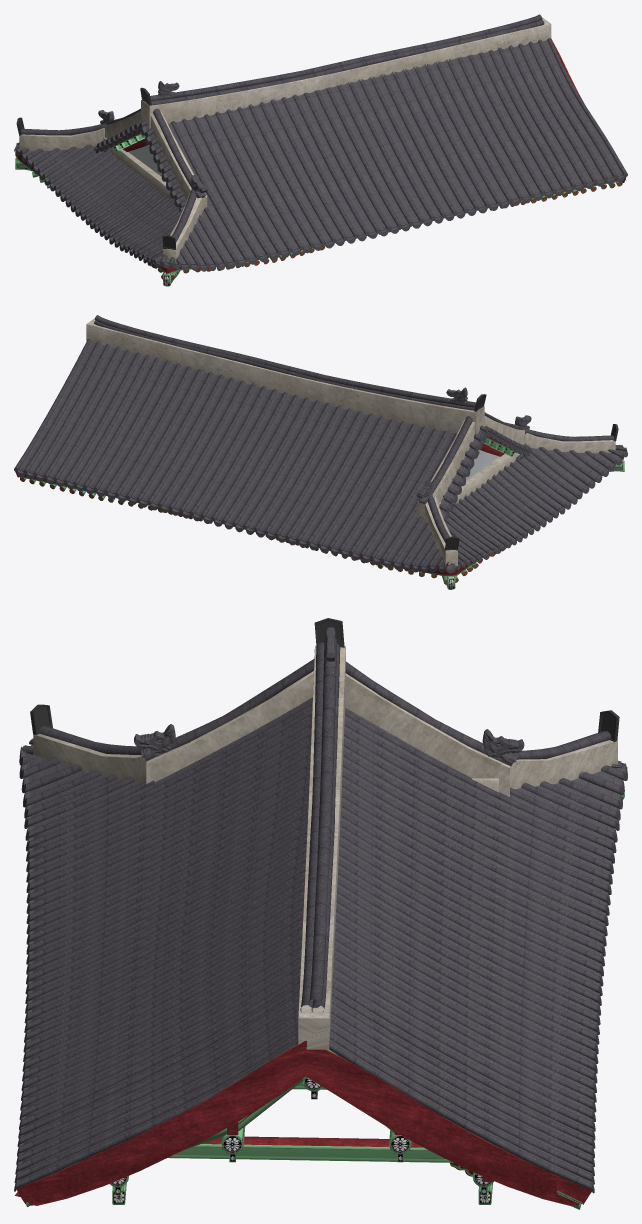
File: SM_Uhagwan_SM_Uhagwan_Left.fbx
3 views of the same model, one above another, from view 1: azimuth 30°, elevation 25°; view 2: azimuth 150°, elevation 25°; view 3: azimuth 270°, elevation 25° (orthographic). The views are drawn at different scales.
Parts seen in each view (by area): view 1: SM_Uhagwan_SM_Uhagwan_Left; view 2: SM_Uhagwan_SM_Uhagwan_Left; view 3: SM_Uhagwan_SM_Uhagwan_Left.
Part boxes in pixels (x1,y1,x2,y2): SM_Uhagwan_SM_Uhagwan_Left: (14,14,627,286); SM_Uhagwan_SM_Uhagwan_Left: (14,315,627,589); SM_Uhagwan_SM_Uhagwan_Left: (14,618,627,1209).
Size of the model in its own units: 1575 by 990 by 446.
12 materials, 12 textured.
